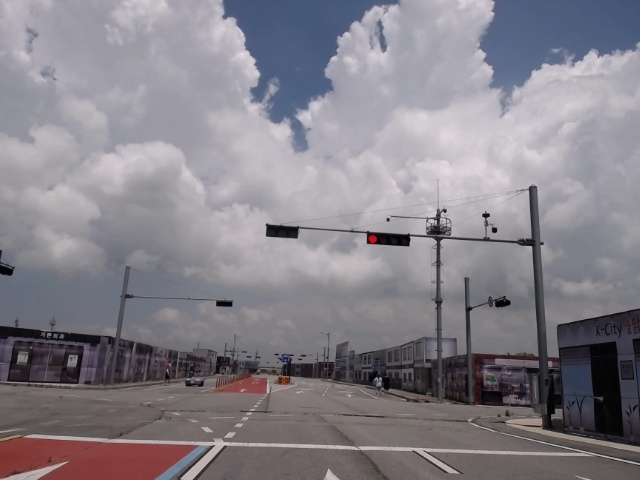red_4: (367, 232, 409, 247)
